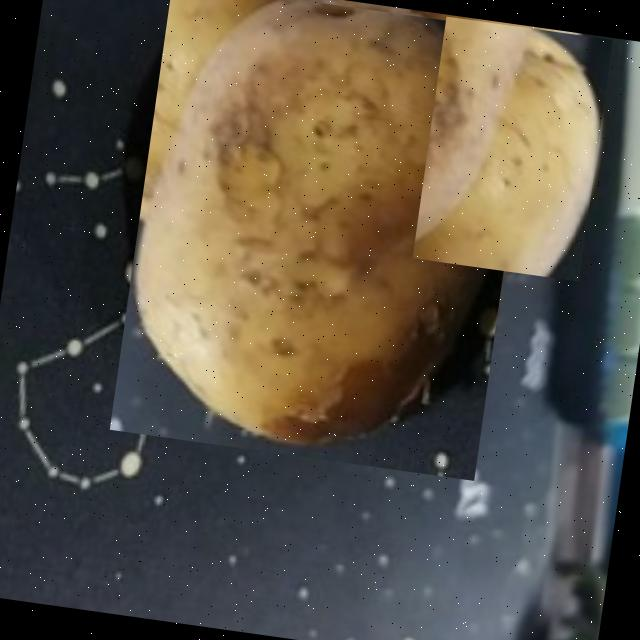Damaged potato: (109, 0, 536, 481)
Potato: (412, 17, 612, 282)
